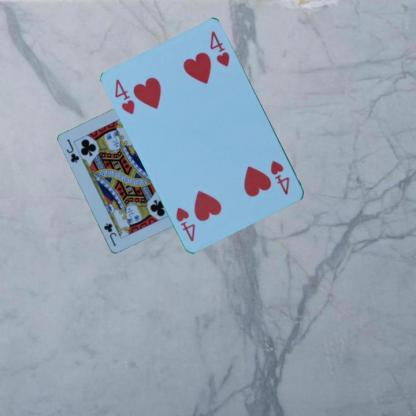4h: (112, 76, 137, 116), (268, 158, 291, 196)
Jc: (64, 136, 81, 164)
